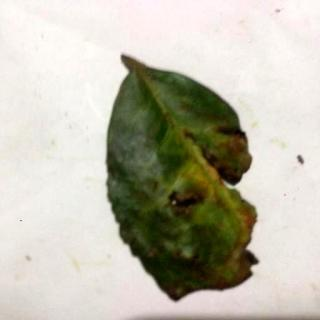Red Leaf Spot: (106, 54, 262, 305)
